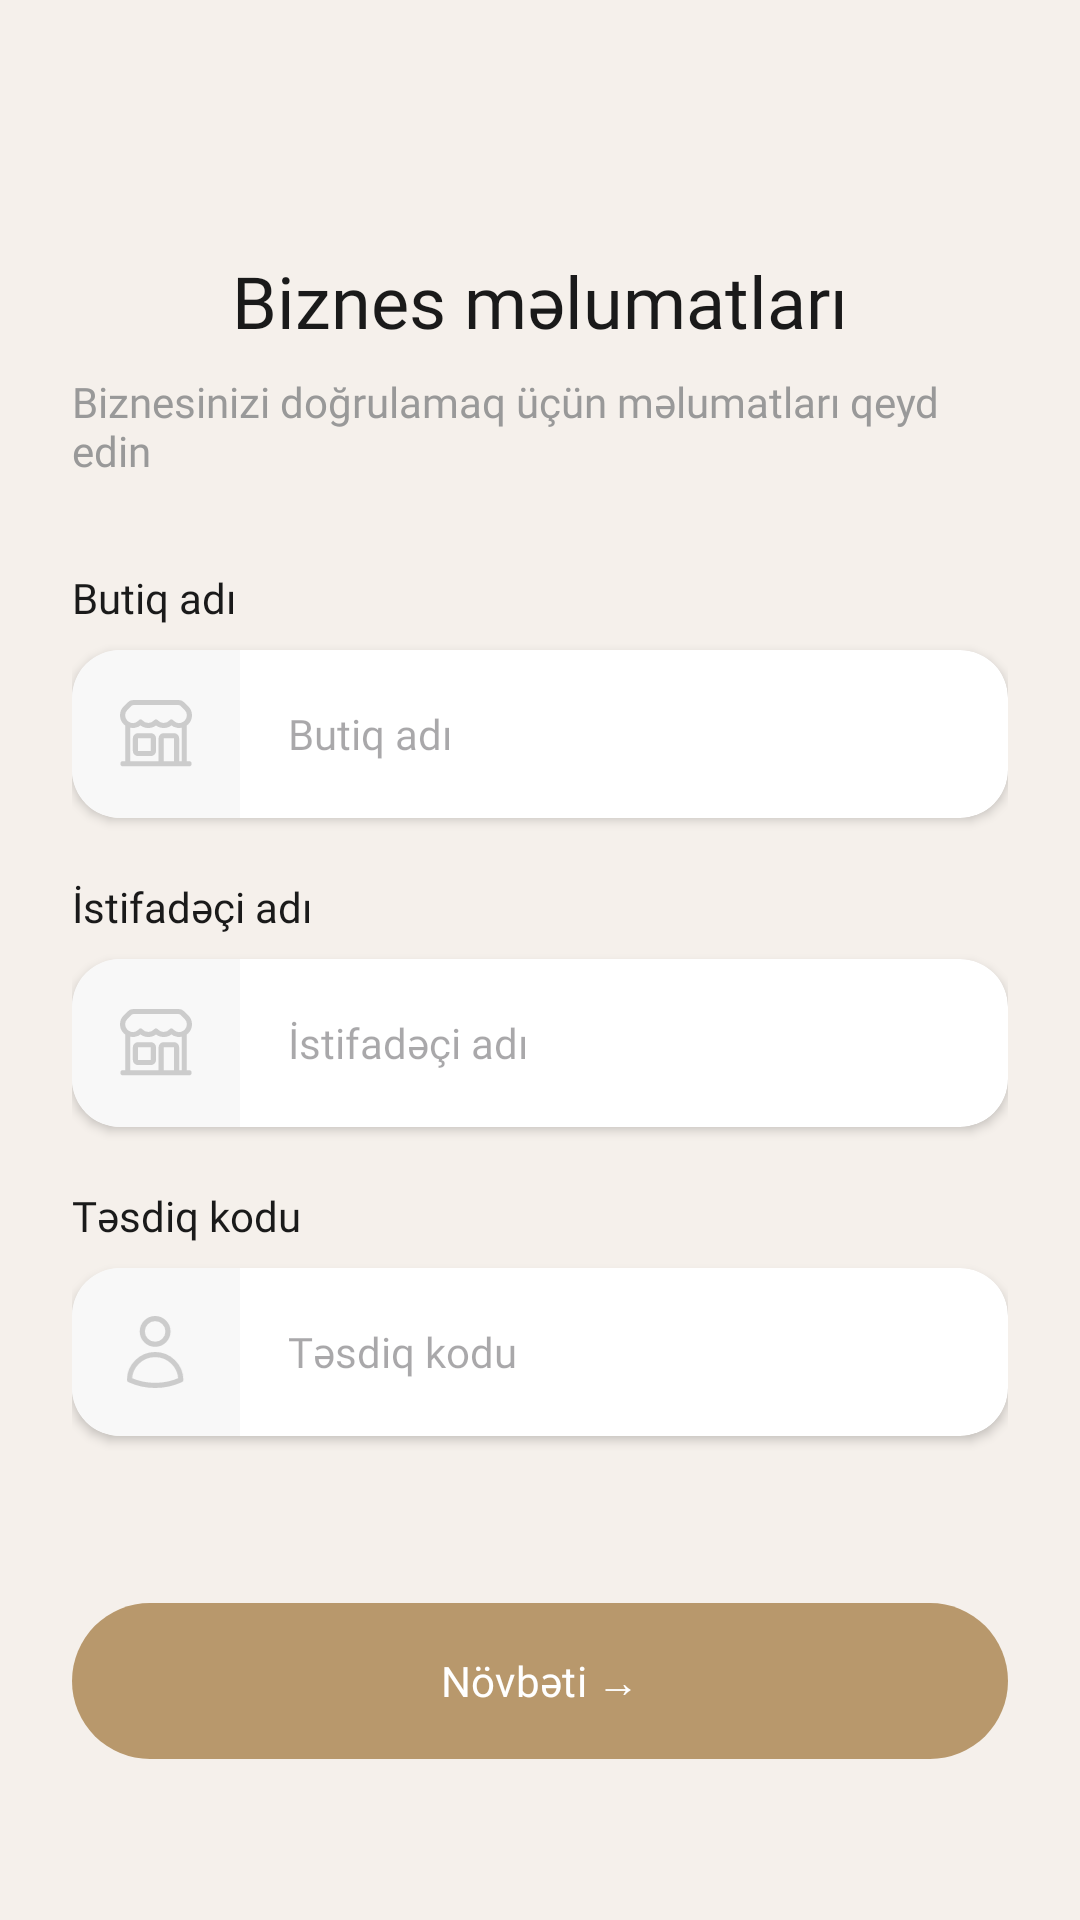

Icon click points for this 1080x1920 phone screenshot, format [x,y]:
botique: [156,733], [156,1042]
user: [155,1352]
